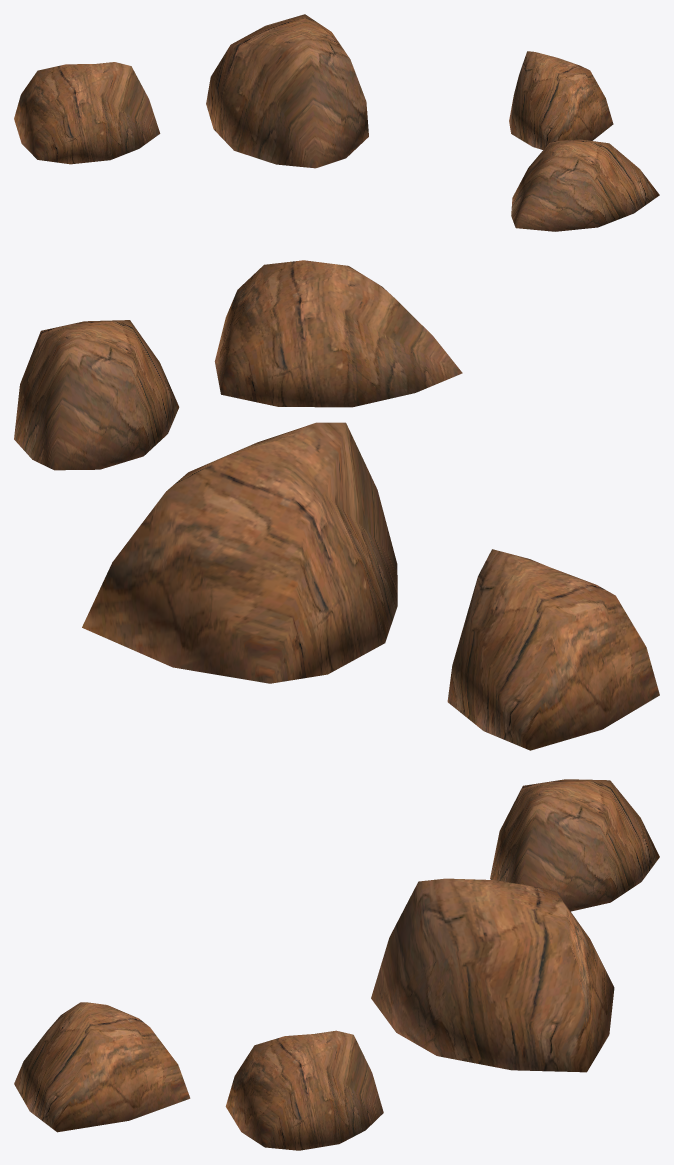
Rendered from rock_tatt_jundland_pebble_l0.fbx.
The picture shows the model from 3 angles, top to bottom: view 1: azimuth 30°, elevation 25°; view 2: azimuth 150°, elevation 25°; view 3: azimuth 270°, elevation 25°; orthographic projection. The views are drawn at different scales.
Parts seen in each view (by area): view 1: mesh_node; view 2: mesh_node; view 3: mesh_node.
Part boxes in pixels (x1,y1,x2,y2): mesh_node: (14,14,659,231); mesh_node: (14,260,659,750); mesh_node: (14,779,659,1150).
Size of the model in its own units: 0.8528 by 0.1924 by 0.7689.
